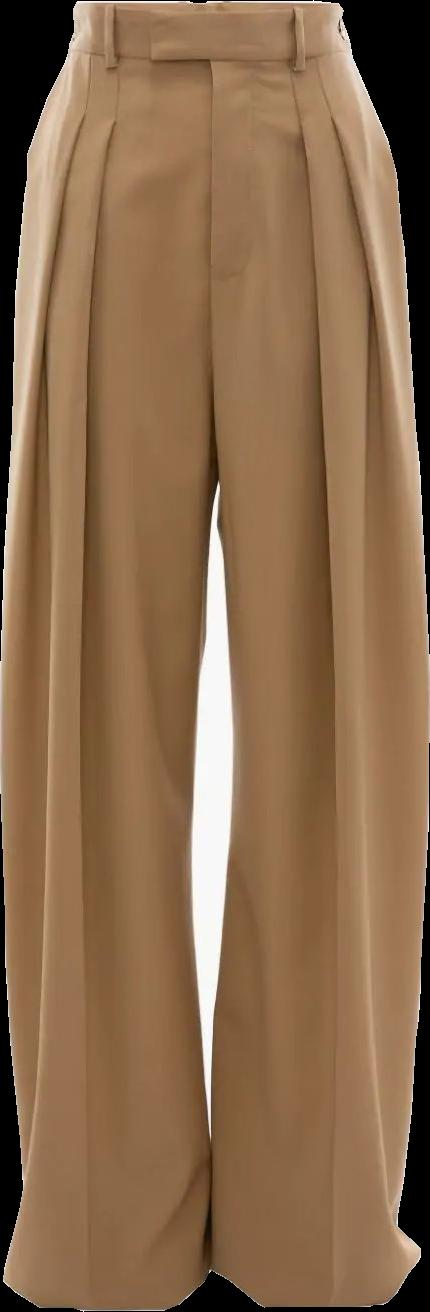Hemline: (214, 1250, 423, 1310), (0, 1257, 226, 1311)
Pantleg: (206, 2, 428, 1305), (0, 1, 221, 1308)
Waistline: (65, 37, 355, 74), (69, 0, 335, 15)
